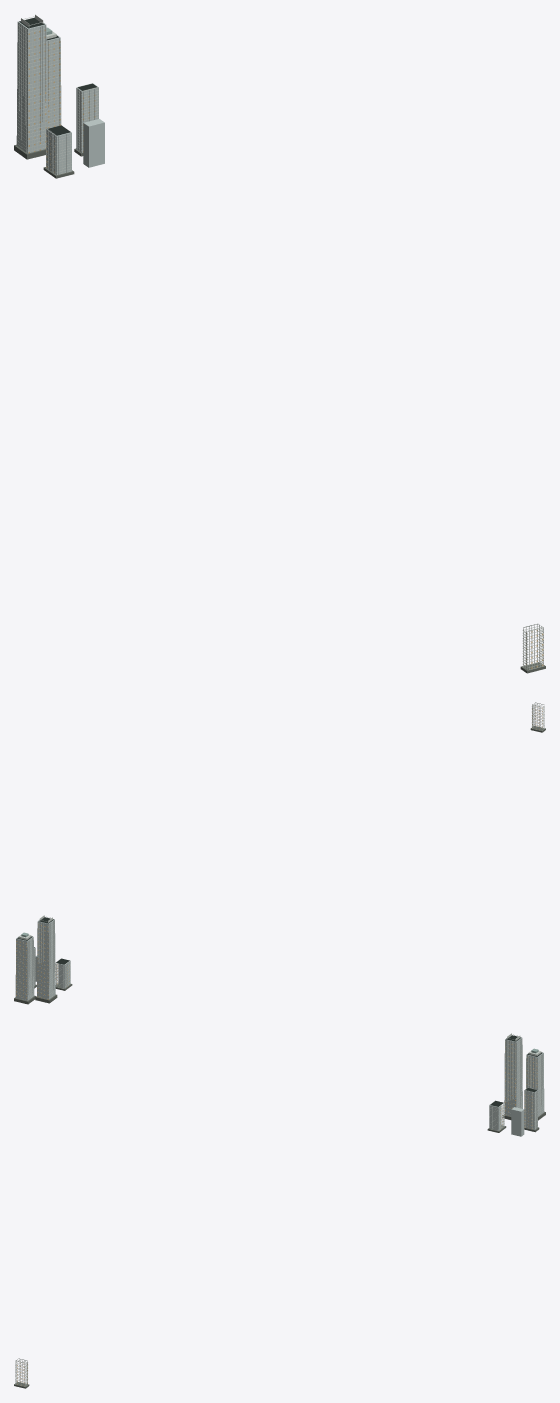
Rendered from innovation-center.glb.
3 views of the same model, one above another, from view 1: azimuth 30°, elevation 25°; view 2: azimuth 150°, elevation 25°; view 3: azimuth 330°, elevation 25° (orthographic). The views are drawn at different scales.
Parts seen in each view (by area): view 1: envelope, fins, floor_bands; view 2: envelope, floor_bands, fins; view 3: envelope, fins, floor_bands.
Boxes of the visible parts, x1,y1,x2,y2 form: envelope: (16, 17, 104, 175); fins: (17, 23, 543, 669); floor_bands: (17, 25, 543, 670); envelope: (15, 917, 70, 1000); floor_bands: (16, 704, 544, 1000); fins: (28, 703, 544, 997); envelope: (489, 1035, 544, 1136); fins: (15, 1038, 542, 1386); floor_bands: (15, 1040, 543, 1385).
Bounding box in the file's own units: 543 × 320 × 2943.
